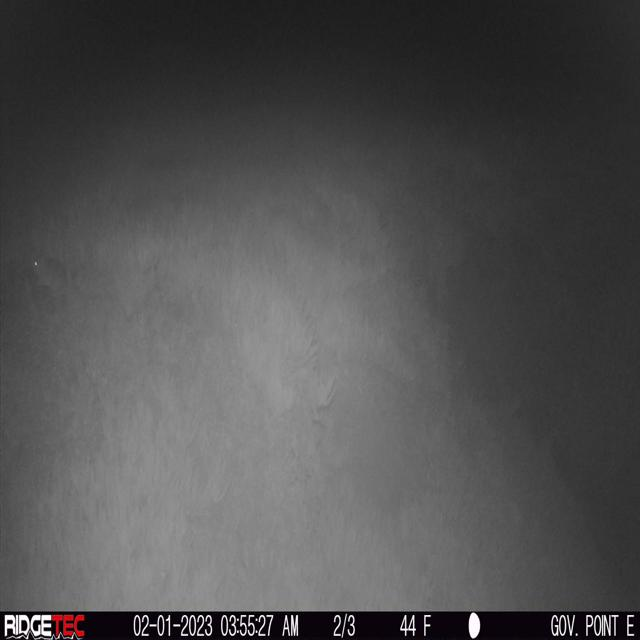rodent: (22, 240, 81, 302)
